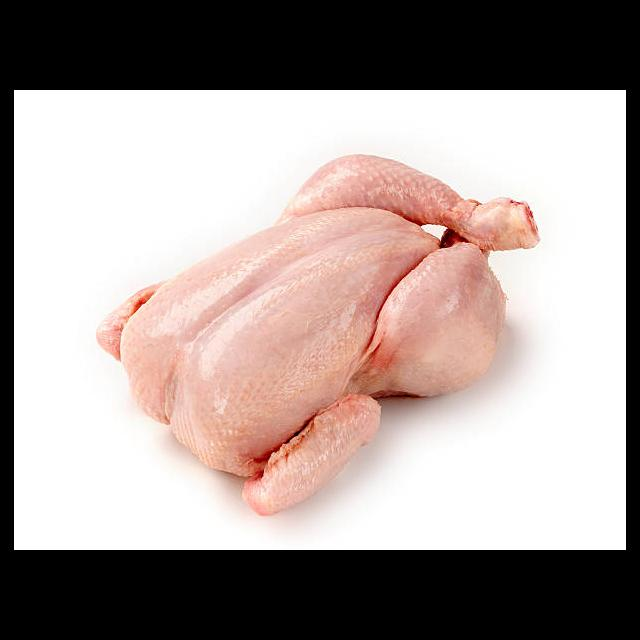chicken: (95, 147, 541, 513)
